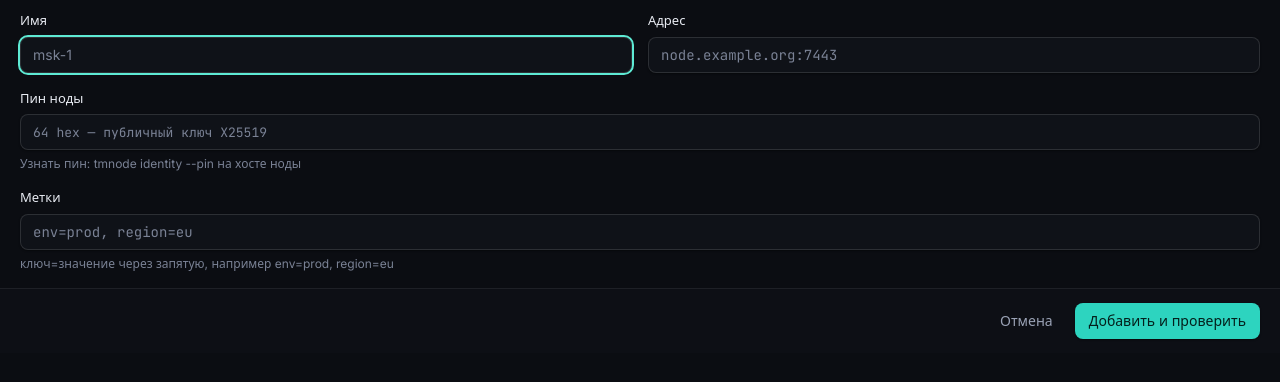
Test: add-node form › shows validation errors and does not submit invalid input
In the field labelled "Адрес": (954, 54) [648,36,1260,72], type "no-port"
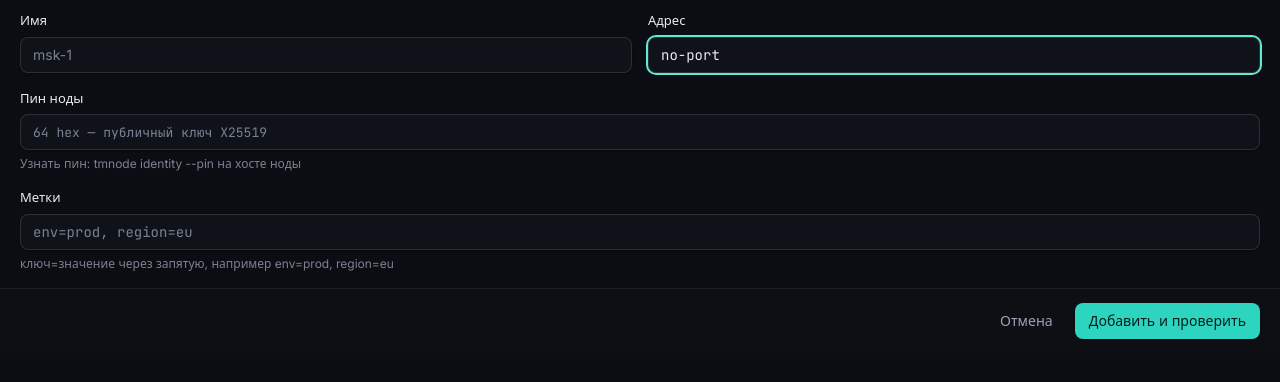
In the field labelled "Пин ноды": (640, 132) [20,114,1260,150], type "abc"
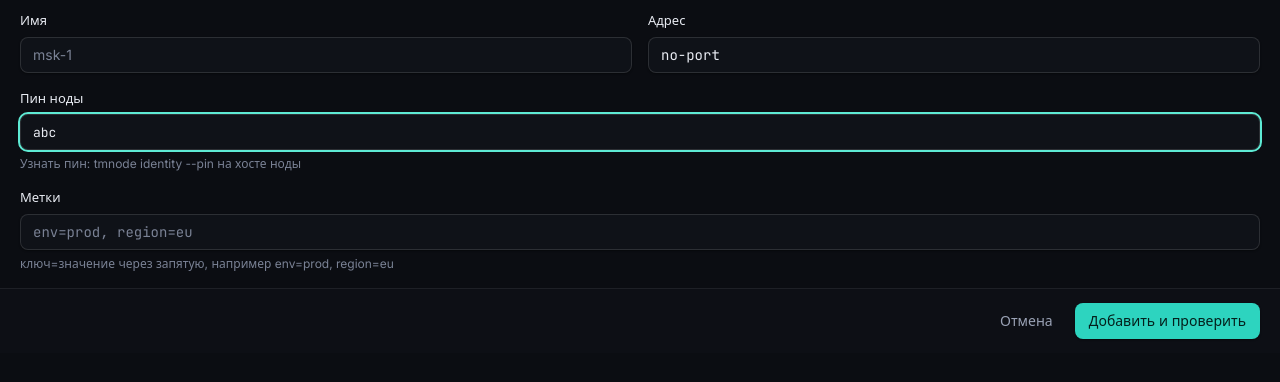
Click the button "Добавить и проверить": (1167, 320) [1075,302,1260,338]
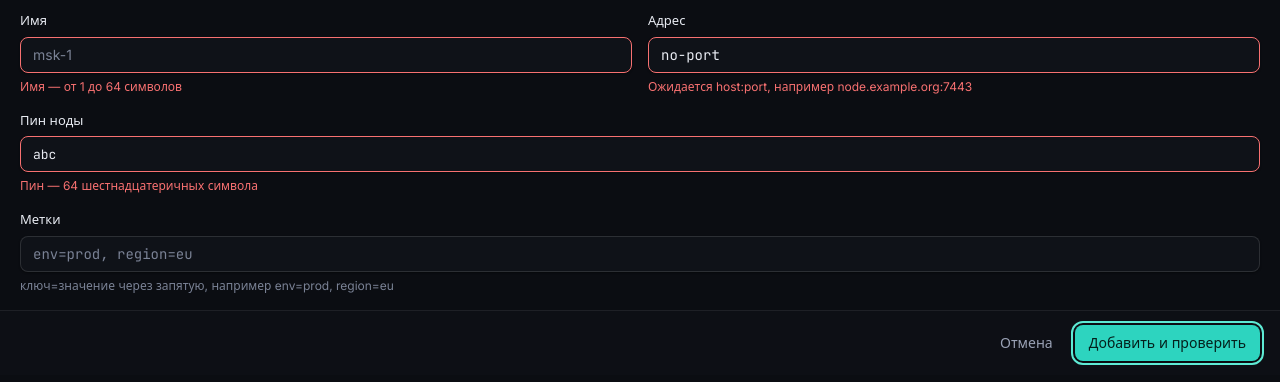
expect the text "Имя — от 1 до 64 символов" is shown: met, box [20,78,182,94]
expect the text "Ожидается host:port, например node.example.org:7443" is shown: met, box [648,78,972,94]
expect the text "Пин — 64 шестнадцатеричных символа" is shown: met, box [20,178,258,193]
